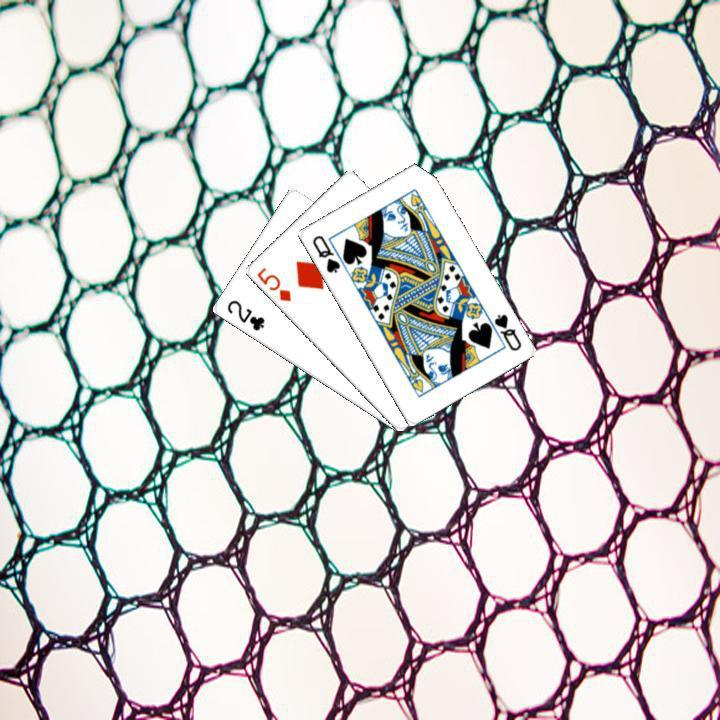2: (222, 295, 266, 333)
5: (252, 263, 293, 304)
Q: (307, 230, 342, 275), (489, 309, 523, 353)
